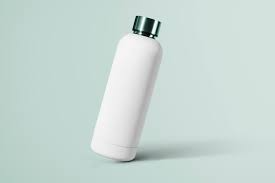bottle: (86, 14, 163, 162)
